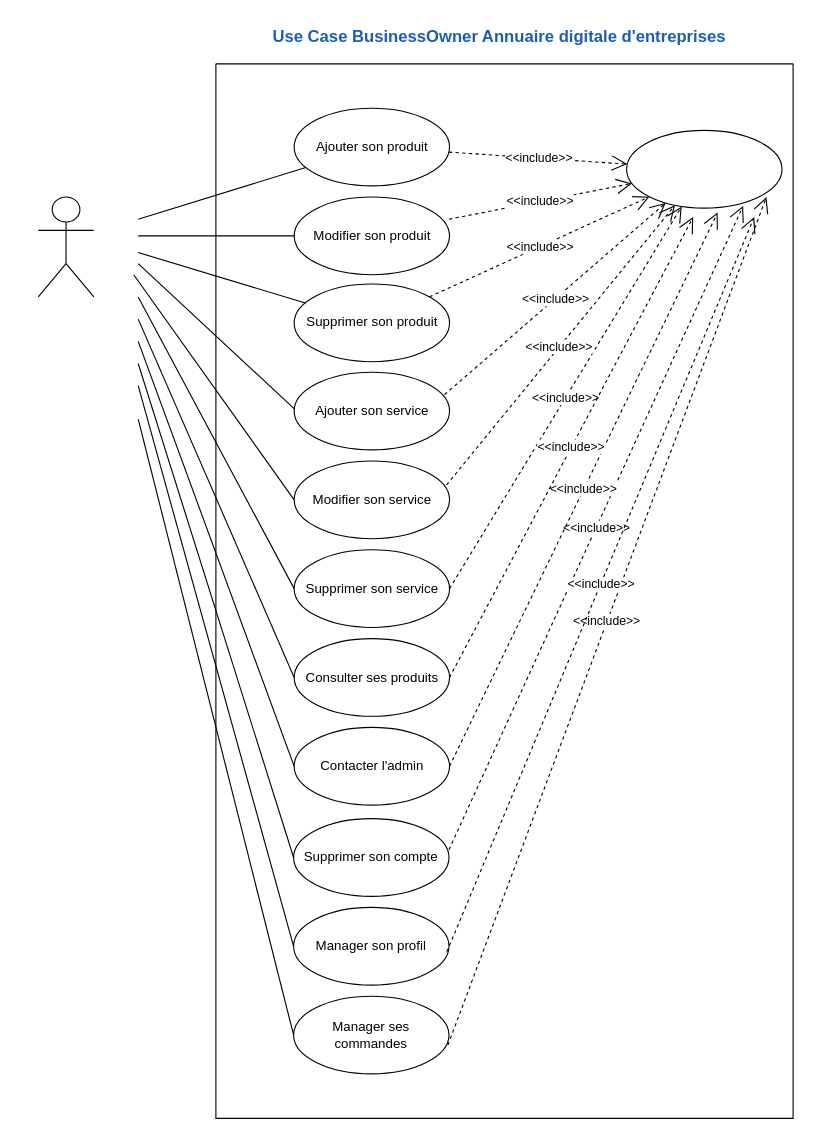
Some shapes in this 813 by 1138 pixel diagram are drawn without their labels. Here are the shapes that lost their labels. From the top down, the box of each, then its label:
(625, 129, 782, 208): S'authentifier
(37, 196, 94, 297): BusinessOwner
